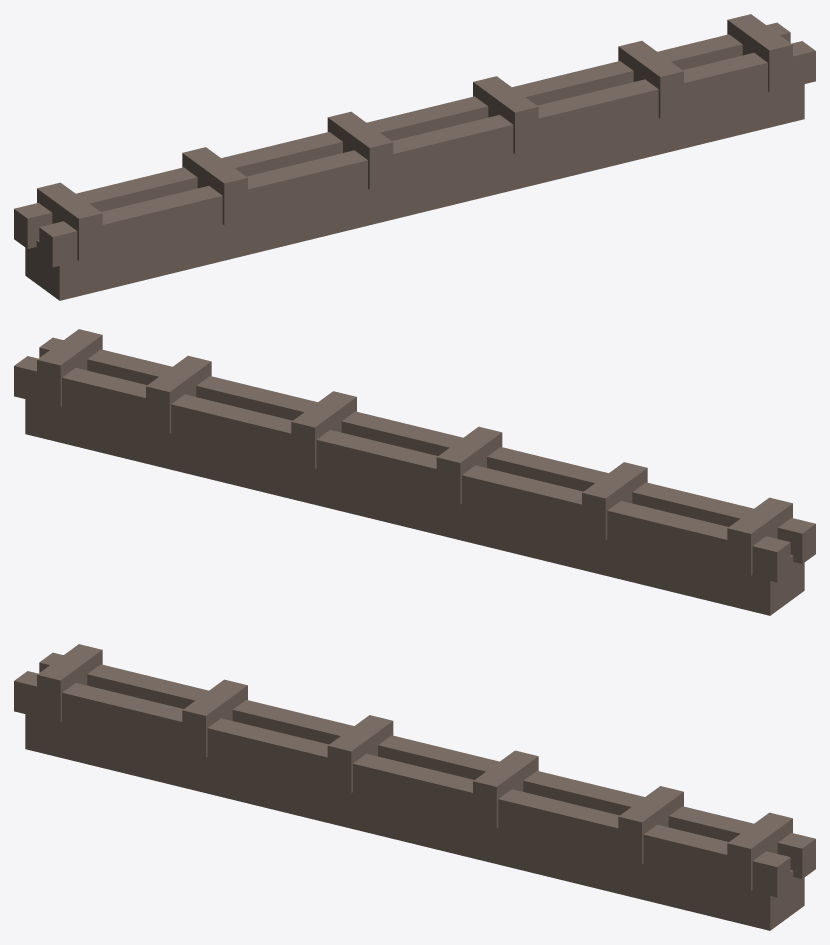
The model's file is cumeeira_vermelha.glb.
3 renders of one model, top to bottom at view 1: azimuth 30°, elevation 25°; view 2: azimuth 150°, elevation 25°; view 3: azimuth 330°, elevation 25°, orthographic.
Visible parts, largest first — view 1: cumeeira_vermelha_part_000, cumeeira_vermelha_part_002, cumeeira_vermelha_part_001, cumeeira_vermelha_part_005, cumeeira_vermelha_part_007, cumeeira_vermelha_part_004, cumeeira_vermelha_part_003, cumeeira_vermelha_part_006, cumeeira_vermelha_part_008; view 2: cumeeira_vermelha_part_000, cumeeira_vermelha_part_001, cumeeira_vermelha_part_002, cumeeira_vermelha_part_005, cumeeira_vermelha_part_007, cumeeira_vermelha_part_004, cumeeira_vermelha_part_003, cumeeira_vermelha_part_006, cumeeira_vermelha_part_008; view 3: cumeeira_vermelha_part_000, cumeeira_vermelha_part_002, cumeeira_vermelha_part_001, cumeeira_vermelha_part_005, cumeeira_vermelha_part_006, cumeeira_vermelha_part_004, cumeeira_vermelha_part_008, cumeeira_vermelha_part_007, cumeeira_vermelha_part_003.
Part boxes in pixels (x1,y1,x2,y2): cumeeira_vermelha_part_000: [25, 84, 804, 300]; cumeeira_vermelha_part_002: [39, 41, 815, 267]; cumeeira_vermelha_part_001: [14, 22, 790, 248]; cumeeira_vermelha_part_005: [327, 111, 393, 189]; cumeeira_vermelha_part_007: [618, 40, 683, 118]; cumeeira_vermelha_part_004: [182, 147, 247, 225]; cumeeira_vermelha_part_003: [37, 182, 102, 260]; cumeeira_vermelha_part_006: [473, 76, 538, 154]; cumeeira_vermelha_part_008: [727, 14, 792, 92]; cumeeira_vermelha_part_000: [25, 399, 804, 615]; cumeeira_vermelha_part_001: [14, 356, 790, 582]; cumeeira_vermelha_part_002: [39, 337, 815, 563]; cumeeira_vermelha_part_005: [436, 426, 502, 504]; cumeeira_vermelha_part_007: [146, 355, 211, 433]; cumeeira_vermelha_part_004: [582, 462, 647, 540]; cumeeira_vermelha_part_003: [727, 497, 792, 575]; cumeeira_vermelha_part_006: [291, 391, 356, 469]; cumeeira_vermelha_part_008: [37, 329, 102, 407]; cumeeira_vermelha_part_000: [25, 714, 804, 930]; cumeeira_vermelha_part_002: [14, 671, 790, 897]; cumeeira_vermelha_part_001: [39, 652, 815, 878]; cumeeira_vermelha_part_005: [327, 715, 393, 793]; cumeeira_vermelha_part_006: [473, 750, 538, 828]; cumeeira_vermelha_part_004: [182, 679, 247, 757]; cumeeira_vermelha_part_008: [727, 812, 792, 890]; cumeeira_vermelha_part_007: [618, 786, 683, 863]; cumeeira_vermelha_part_003: [37, 644, 102, 722].
Bounding box in the file's own units: 4.2 × 0.425 × 0.4.
